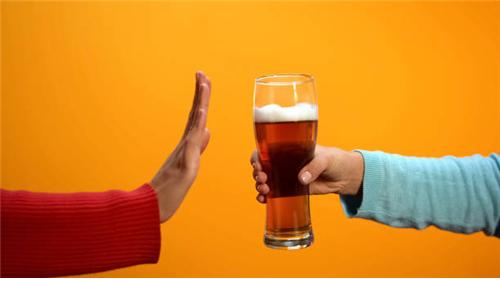alcohol: (254, 73, 318, 252)
